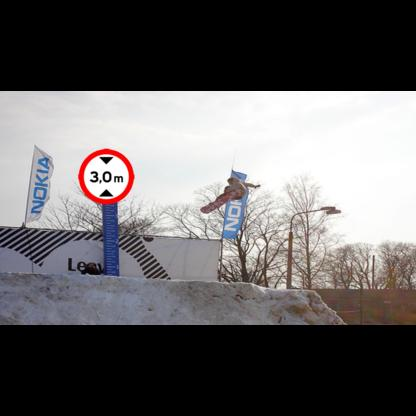R-15: (78, 149, 134, 204)
